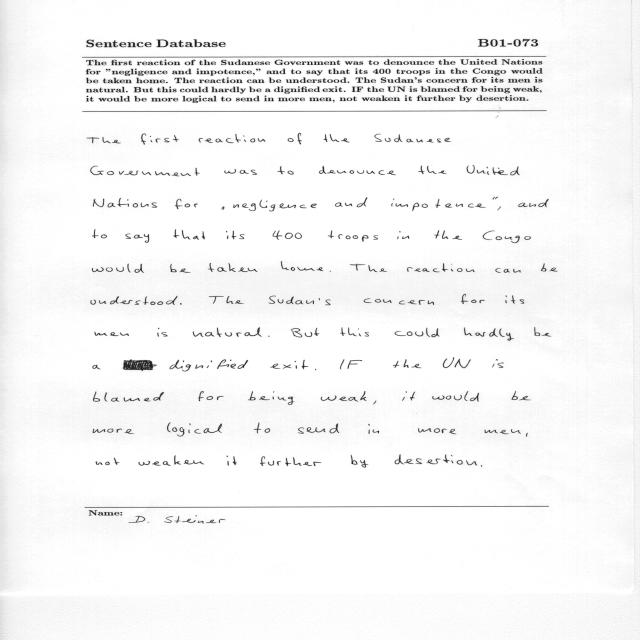word: (392, 198, 486, 211), (91, 166, 200, 176), (169, 360, 248, 372), (233, 200, 317, 211), (395, 455, 477, 466), (91, 296, 177, 305), (167, 423, 222, 437), (139, 455, 205, 466), (93, 392, 164, 402), (464, 327, 514, 341), (319, 166, 396, 175), (193, 328, 262, 338), (248, 391, 294, 405), (93, 198, 157, 208), (374, 134, 451, 142), (407, 264, 475, 273), (260, 456, 321, 466), (199, 134, 266, 143), (328, 230, 378, 242), (483, 231, 531, 243), (269, 296, 330, 305), (467, 166, 520, 176), (432, 391, 479, 402), (321, 391, 366, 402), (364, 298, 434, 305), (92, 264, 144, 273), (141, 133, 179, 145), (208, 263, 257, 272), (281, 261, 323, 271), (298, 424, 339, 434), (123, 359, 157, 371), (395, 328, 439, 337), (174, 229, 206, 240), (270, 360, 309, 369), (335, 198, 367, 208), (350, 264, 387, 272), (434, 230, 462, 240), (209, 296, 244, 304), (443, 358, 471, 368), (273, 231, 302, 240), (340, 328, 369, 337), (198, 392, 224, 402), (291, 328, 319, 337), (393, 359, 421, 368), (518, 199, 549, 207), (461, 294, 485, 304), (418, 166, 447, 174), (175, 199, 198, 209), (418, 428, 456, 434), (351, 455, 368, 468), (340, 360, 362, 370), (125, 234, 149, 243), (324, 134, 350, 142), (93, 429, 134, 434), (87, 137, 121, 143), (224, 169, 257, 175), (170, 264, 191, 273), (511, 391, 531, 400), (485, 429, 521, 434), (254, 423, 270, 434), (506, 295, 525, 304), (288, 133, 302, 145), (96, 458, 120, 465), (226, 231, 244, 240), (277, 166, 294, 175), (534, 328, 551, 337), (541, 264, 558, 272), (95, 332, 129, 336), (92, 230, 107, 239), (495, 268, 521, 273), (402, 391, 415, 401), (368, 424, 379, 434), (492, 359, 504, 368), (227, 456, 237, 466), (157, 328, 168, 337), (398, 231, 410, 239), (495, 197, 501, 210), (93, 365, 100, 369), (222, 206, 225, 210), (373, 401, 376, 405), (492, 197, 495, 200), (526, 433, 528, 437), (180, 303, 182, 305), (268, 336, 270, 337), (481, 465, 482, 467), (315, 369, 316, 370), (330, 271, 331, 271)
